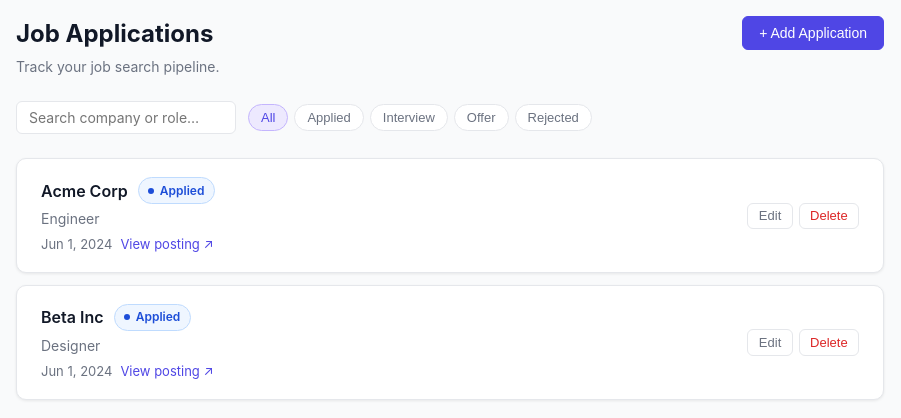
Test case: ApplicationListView › filters by company name search
In the search field with placeholder "Search company or role…": (126, 118) x1=16 y1=101 x2=236 y2=134, type "acme"
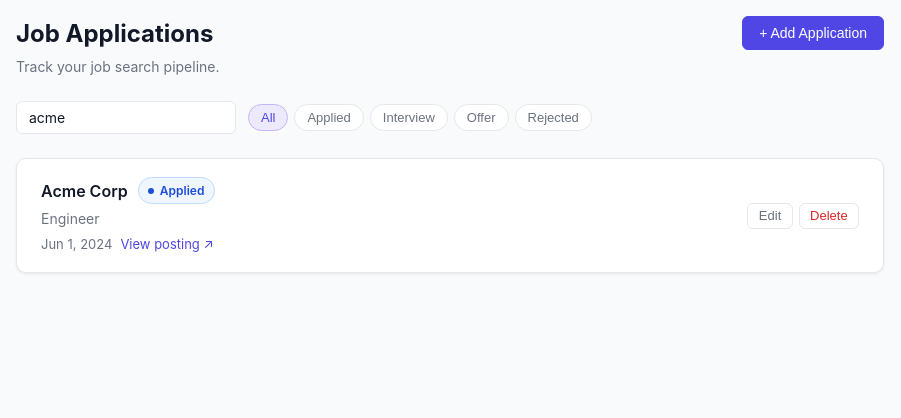
Expected: the text "Acme Corp" is shown, x1=41 y1=179 x2=128 y2=203
Expected: the text "Beta Inc" is gone
